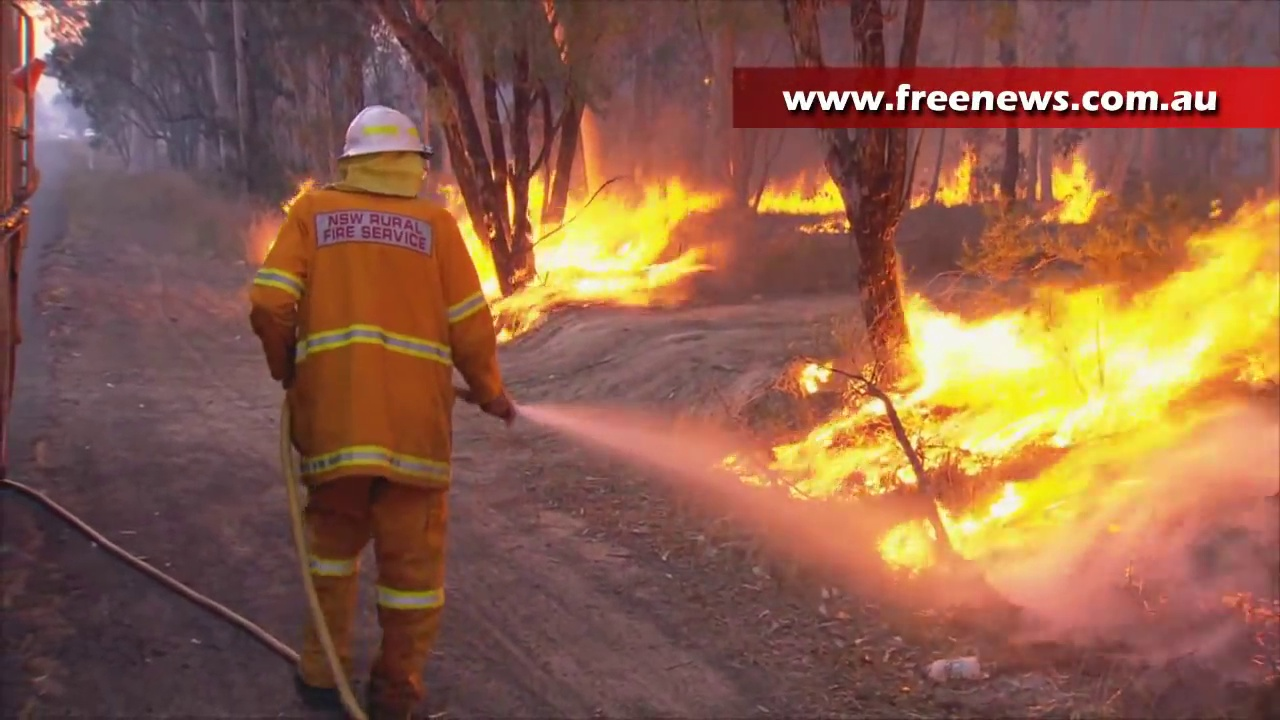fire: (746, 197, 1280, 508), (448, 170, 722, 318), (884, 479, 1092, 576), (1051, 160, 1091, 217), (765, 183, 838, 213), (939, 151, 975, 206), (796, 363, 829, 394)
